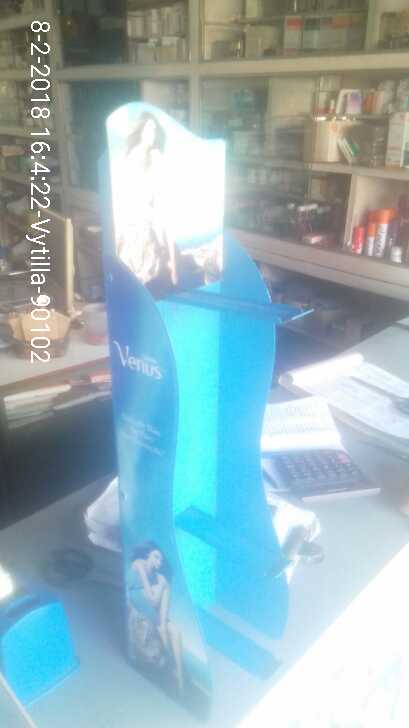reject: (147, 282, 222, 356)
